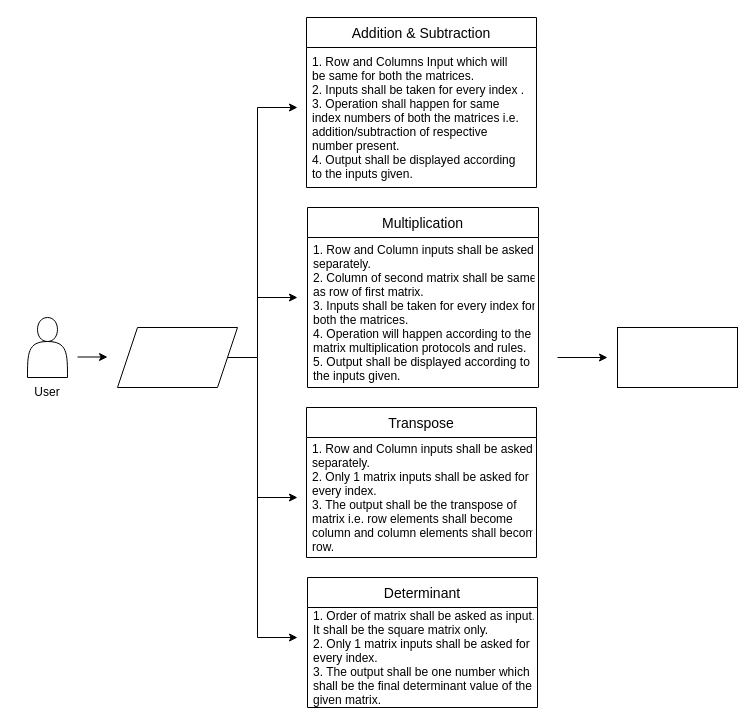
Some shapes in this 755 by 725 pixel diagram are drawn without their labels. The shapes that lost their labels are listed below. From the top down, each one's box as (x1, y1, x2, y2) in pixels, then its label:
(116, 326, 238, 388): Enter Operation Number (1-5)
(616, 326, 738, 388): Output Display
